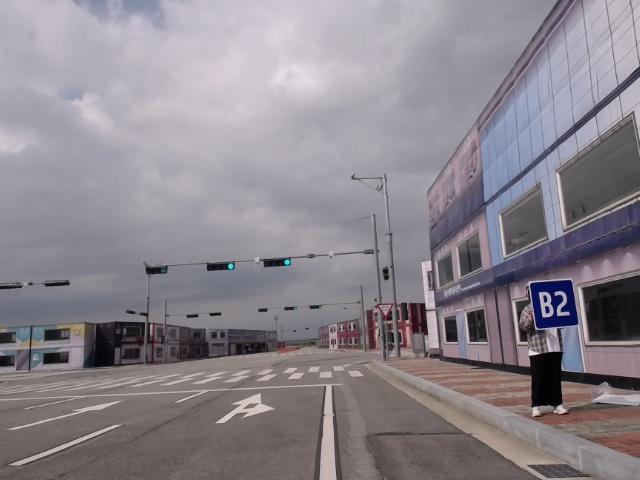delivery_b2: (527, 279, 581, 330)
straight_green_4: (264, 255, 294, 269), (205, 260, 237, 273), (283, 305, 299, 313), (307, 304, 325, 311)
